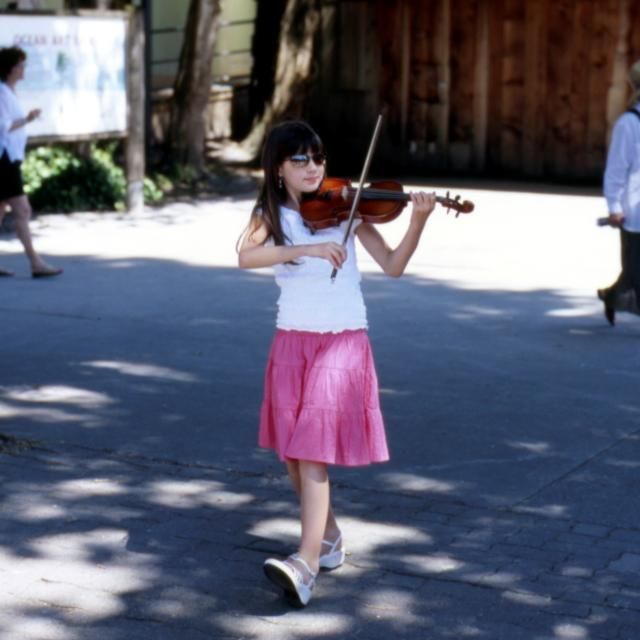violin: (293, 175, 480, 228)
